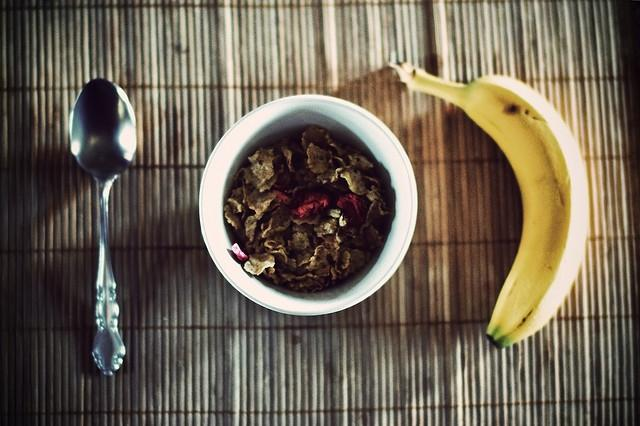banana: (390, 61, 589, 350)
